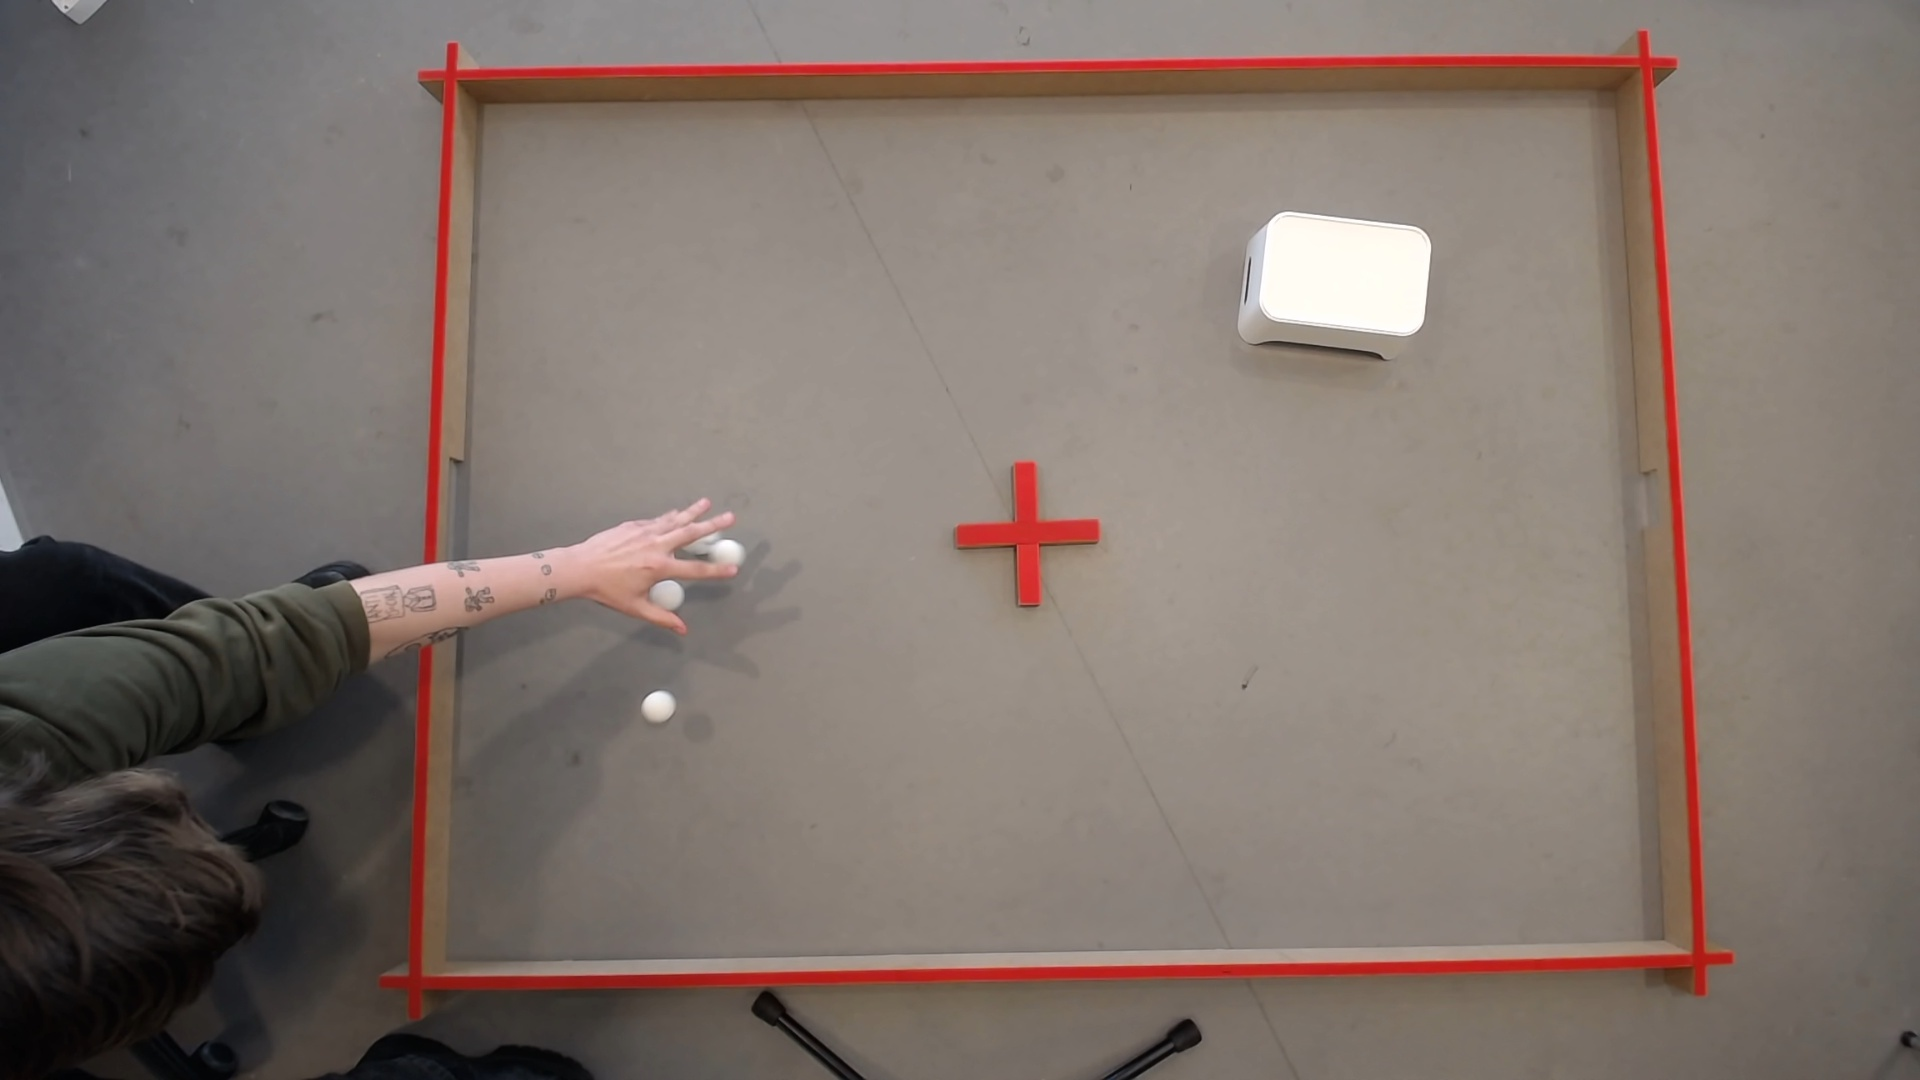balls: (349, 513, 669, 611), (638, 686, 675, 721), (708, 531, 745, 564), (658, 580, 680, 599)
car: (646, 526, 684, 543)
